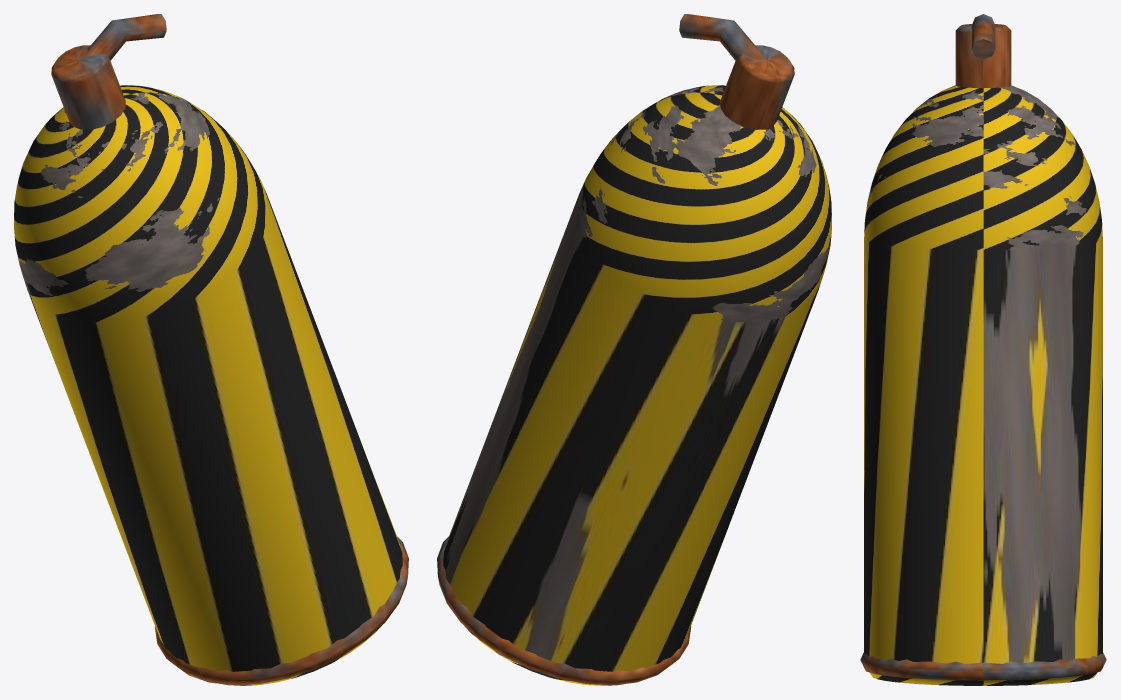
The model's file is gas_cylinder.gltf.
The picture shows the model from 3 angles, left to right: view 1: azimuth 30°, elevation 25°; view 2: azimuth 150°, elevation 25°; view 3: azimuth 270°, elevation 25°; orthographic projection. The views are drawn at different scales.
Visible parts, largest first — view 1: gas_cylinder; view 2: gas_cylinder; view 3: gas_cylinder.
Boxes of the visible parts, x1,y1,x2,y2 form: gas_cylinder: (14, 14, 408, 685); gas_cylinder: (437, 14, 831, 685); gas_cylinder: (860, 14, 1106, 685).
Bounding box in the file's own units: 0.967 × 1.72 × 0.619.
Materials: 2 (2 with a texture image).
